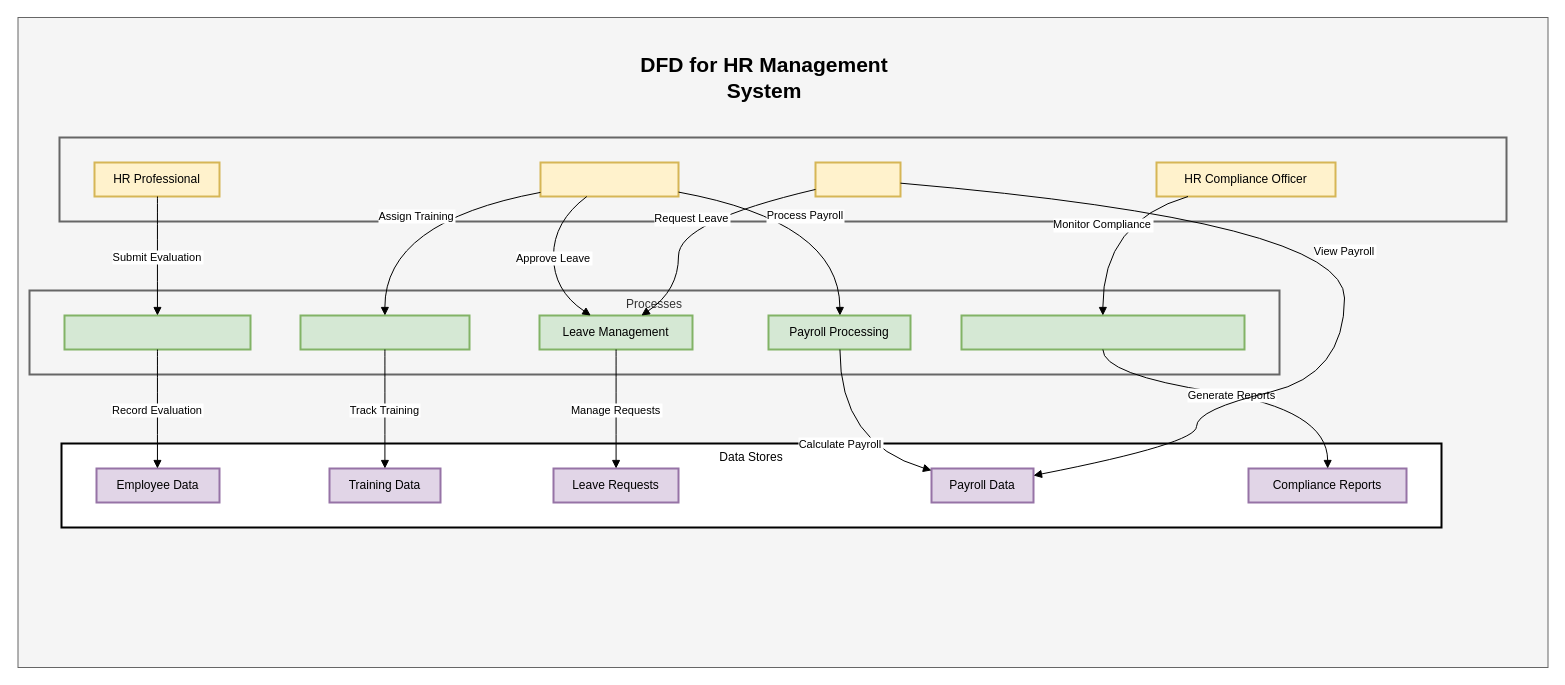
The diagram is 1565 pixels wide and 685 high, and some of its shapes have lost their labels. The box of each missing label's shape, as (x1, y1, x2, y2) in pixels:
Compliance Monitoring and Reporting: (960, 314, 1245, 350)
Employee: (814, 161, 901, 197)
External Entities: (58, 136, 1507, 222)
HR Administrator: (539, 161, 679, 197)
Performance Evaluation: (63, 314, 251, 350)
Training Management: (299, 314, 470, 350)
